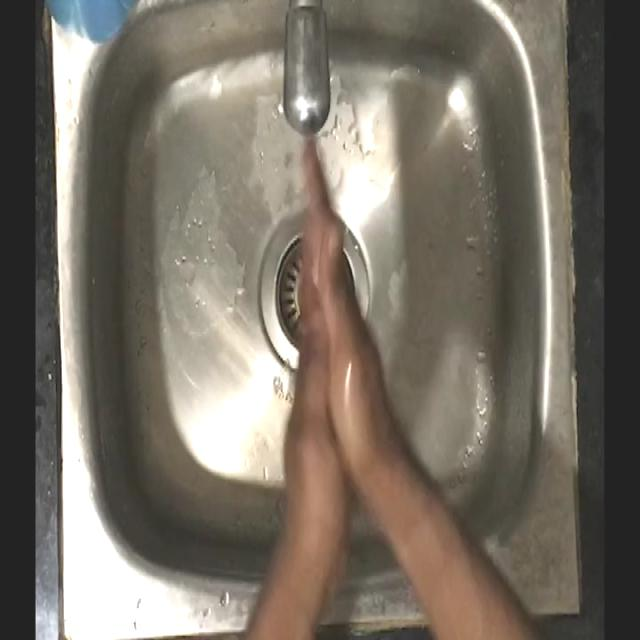step_1: (259, 130, 395, 500)
